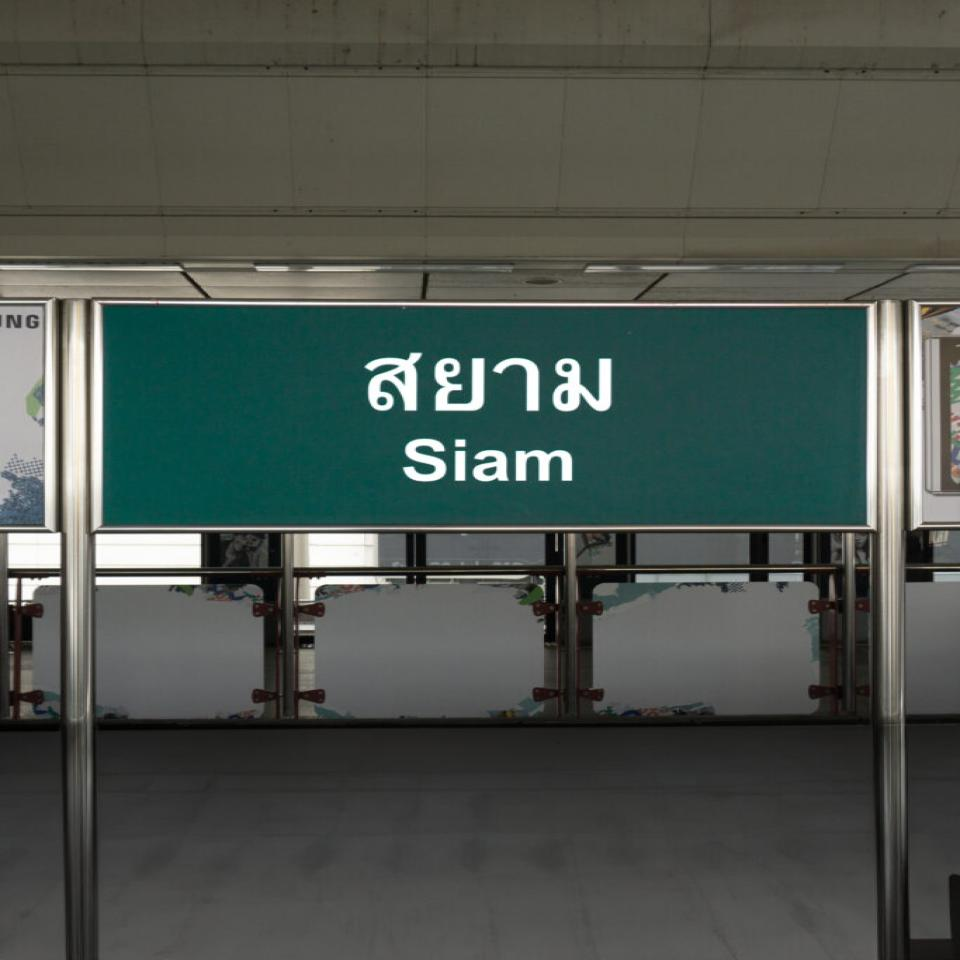signage: (90, 296, 882, 533)
